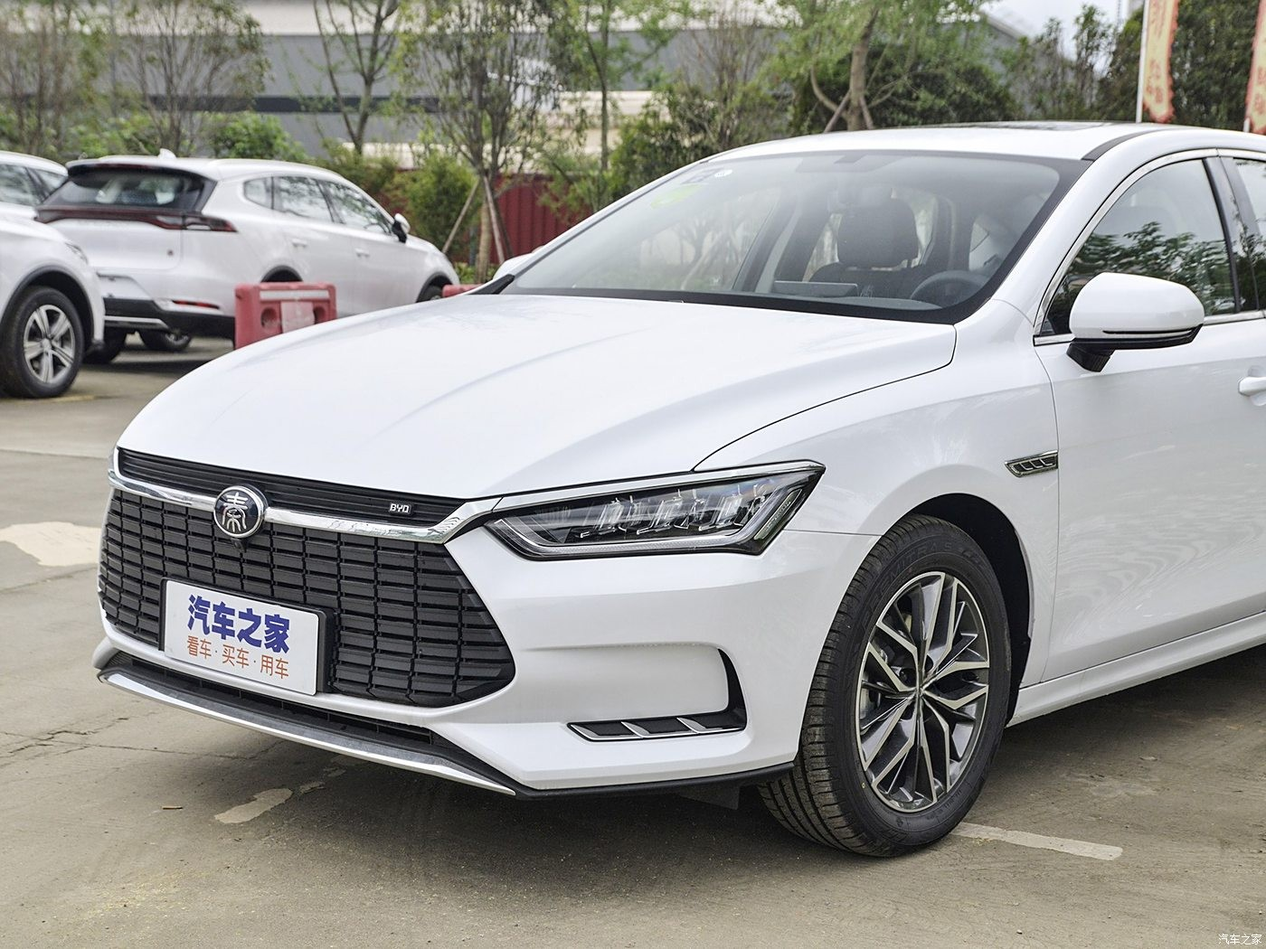BYD Qin: (214, 486, 263, 538)
